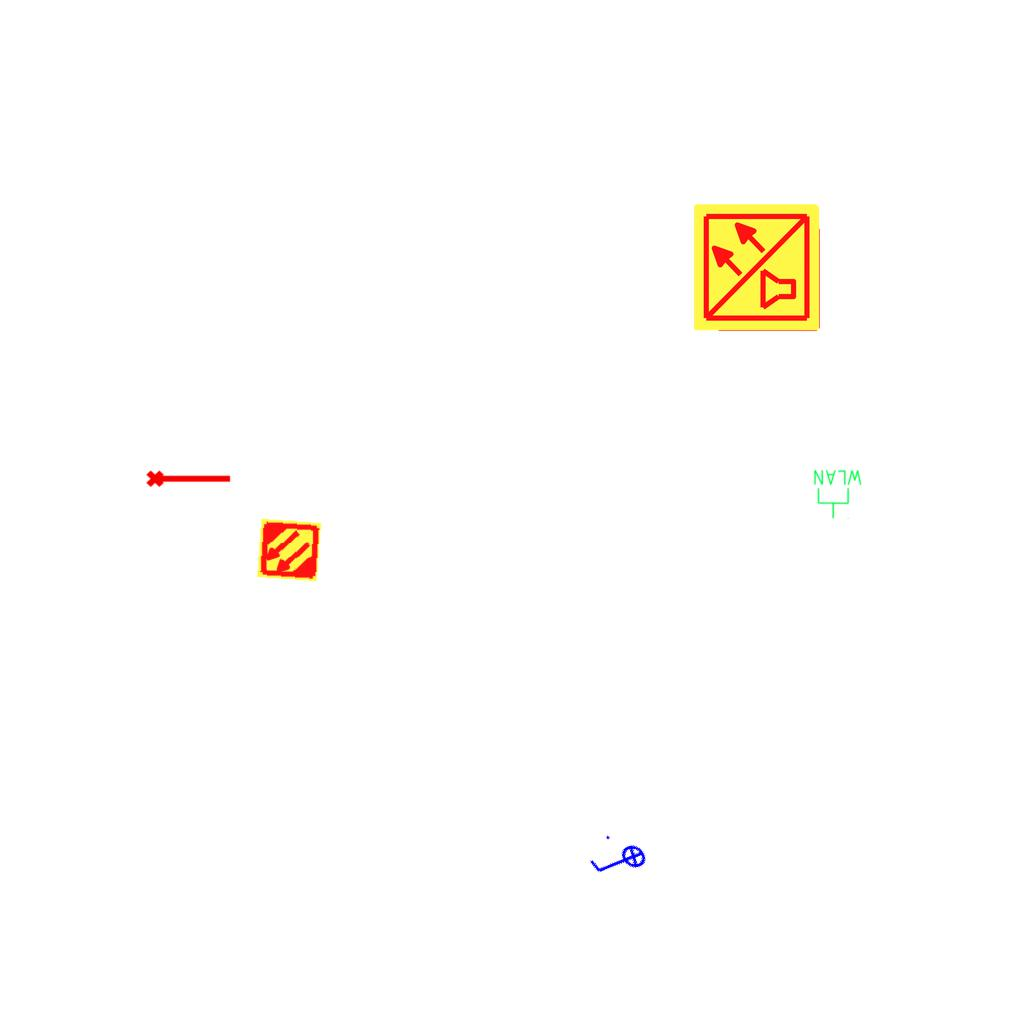ASR_Ansaugoeffnung: (145, 466, 233, 489)
ASR_Ansaugrauchmelder: (255, 516, 323, 584)
Ausschalter_beleuchtet: (582, 826, 656, 898)
OKW_Multisensormelder_(Kombination_optischer_Rauch-Kahlenmonoxid_Waerme-Melder): (691, 201, 823, 333)
WLAN: (812, 468, 864, 520)
